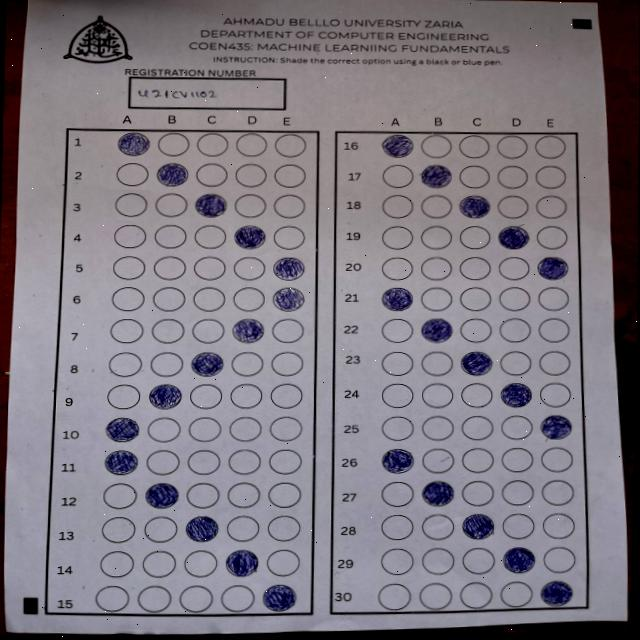bubble: (105, 414, 140, 443), (224, 548, 258, 577), (185, 515, 219, 542), (145, 482, 179, 509), (262, 584, 296, 611), (103, 449, 138, 475), (148, 383, 183, 409), (461, 513, 494, 540), (502, 546, 534, 573), (190, 351, 223, 377), (499, 382, 532, 408), (540, 579, 573, 605), (421, 480, 453, 506), (420, 317, 452, 343), (381, 448, 414, 473), (231, 318, 264, 343), (117, 131, 150, 156), (273, 286, 305, 311), (460, 351, 492, 376), (273, 256, 305, 281), (381, 133, 413, 158), (194, 193, 227, 217), (382, 286, 413, 311), (541, 414, 572, 439), (459, 194, 490, 219), (157, 162, 188, 187), (234, 225, 266, 249), (537, 256, 568, 280), (498, 225, 529, 249), (420, 164, 451, 188)
